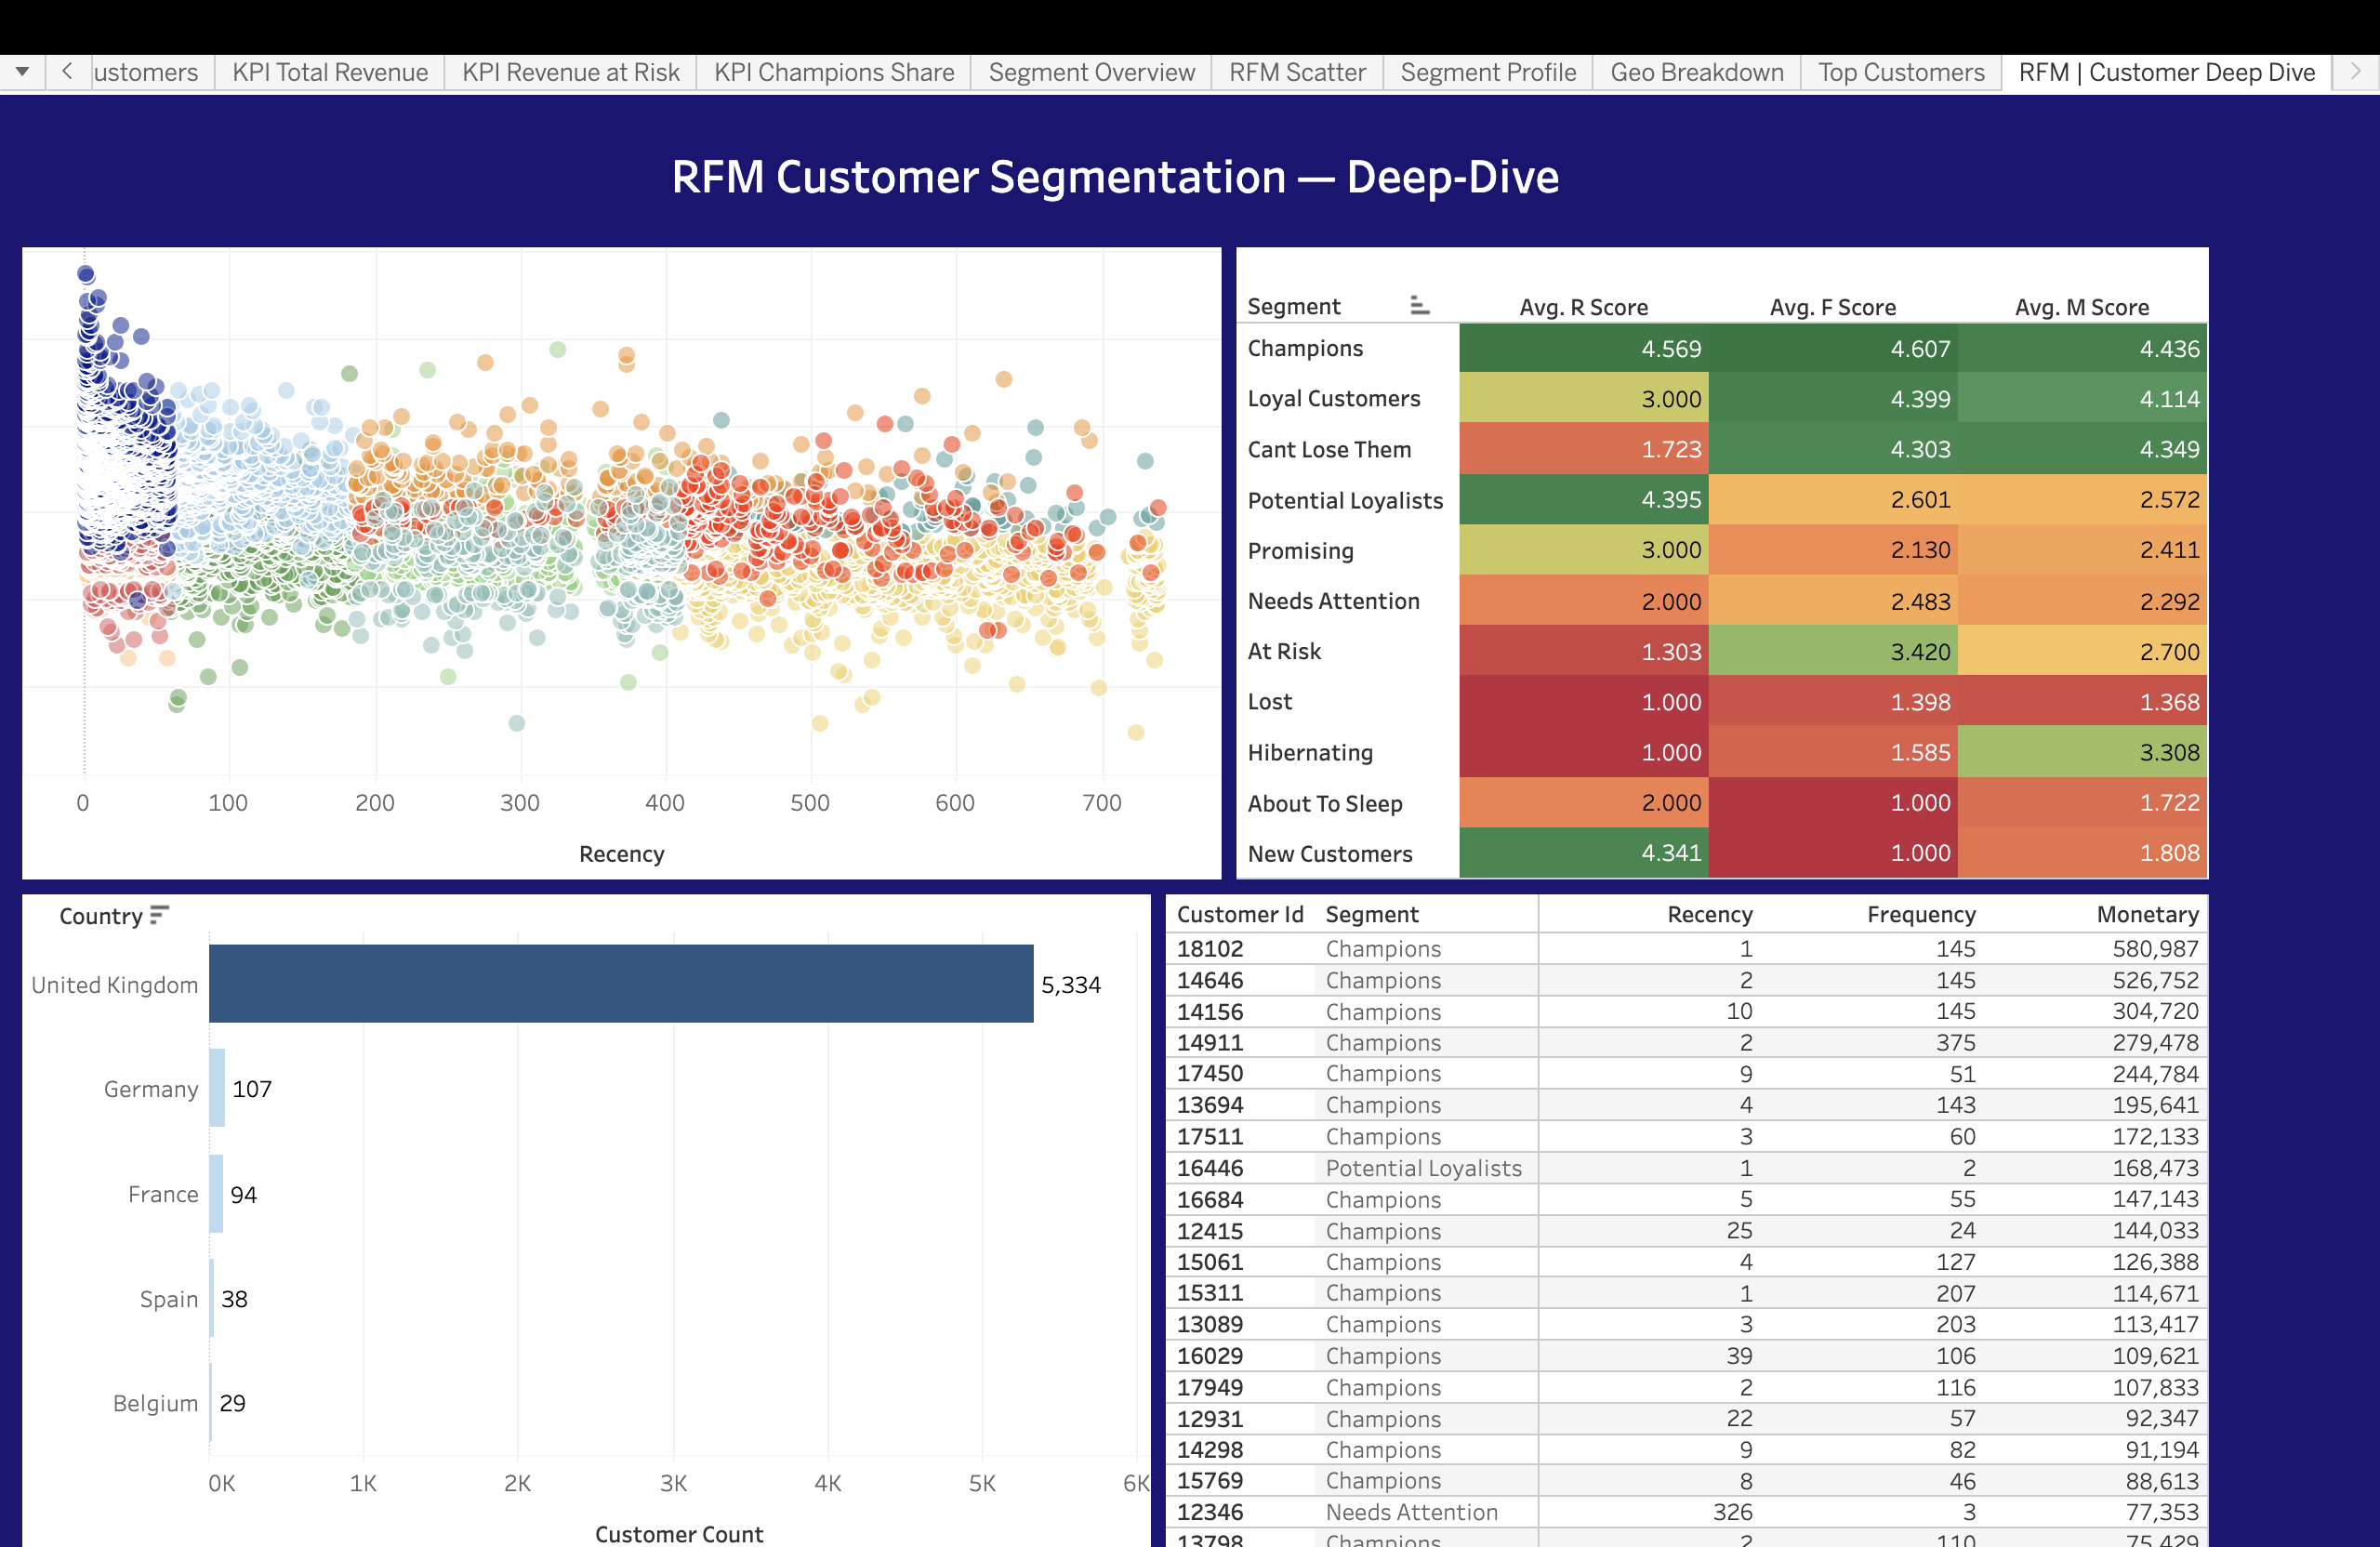

This screenshot's page, from the dashboard's own definition file:
{"tool":"tableau","page":{"name":"RFM | Customer Deep Dive ","canvas":[1200,800],"ordinal":0},"visuals":[{"type":"text","box":[8,8,1184,70]},{"type":"worksheet","title":"RFM Scatter","mark":"Circle","rows":["monetary"],"cols":["recency"],"box":[8,78,653,348]},{"type":"worksheet","title":"Segment Profile","mark":"Square","rows":["segment"],"box":[661,78,531,348]},{"type":"worksheet","title":"Geo Breakdown","mark":"Automatic","rows":["country"],"cols":["customer_count"],"box":[8,426,615,366]},{"type":"worksheet","title":"Top Customers","mark":"Text","rows":["customer_id","segment"],"box":[623,426,569,366]}]}

Visuals, with their boxes in screenshot pixels (x1, y1, x2, y2):
text: box(21, 114, 2202, 243)
"RFM Scatter" worksheet (Circle marks): box(21, 243, 1224, 884)
"Segment Profile" worksheet (Square marks): box(1224, 243, 2202, 884)
"Geo Breakdown" worksheet: box(21, 884, 1154, 1546)
"Top Customers" worksheet (Text marks): box(1154, 884, 2202, 1546)
